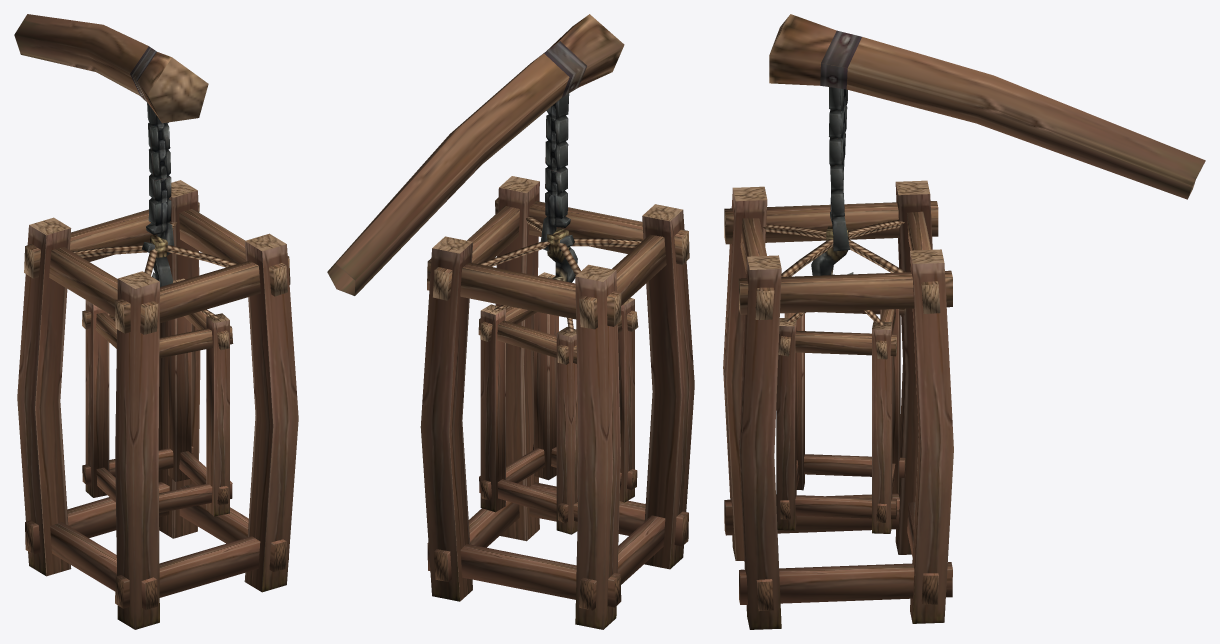
The model's file is FB6_mujia_3.FBX.
3 views of the same model, side by side, from view 1: azimuth 30°, elevation 25°; view 2: azimuth 150°, elevation 25°; view 3: azimuth 270°, elevation 25° (orthographic). The views are drawn at different scales.
Visible parts, largest first — view 1: FB6_mujia_3; view 2: FB6_mujia_3; view 3: FB6_mujia_3.
Part boxes in pixels (box(x1,y1,x2,y2)): FB6_mujia_3: box(14, 14, 298, 629); FB6_mujia_3: box(327, 14, 694, 629); FB6_mujia_3: box(723, 14, 1205, 629).
Bounding box in the file's own units: 179 × 483 × 373.
Materials: 1 (1 with a texture image).
